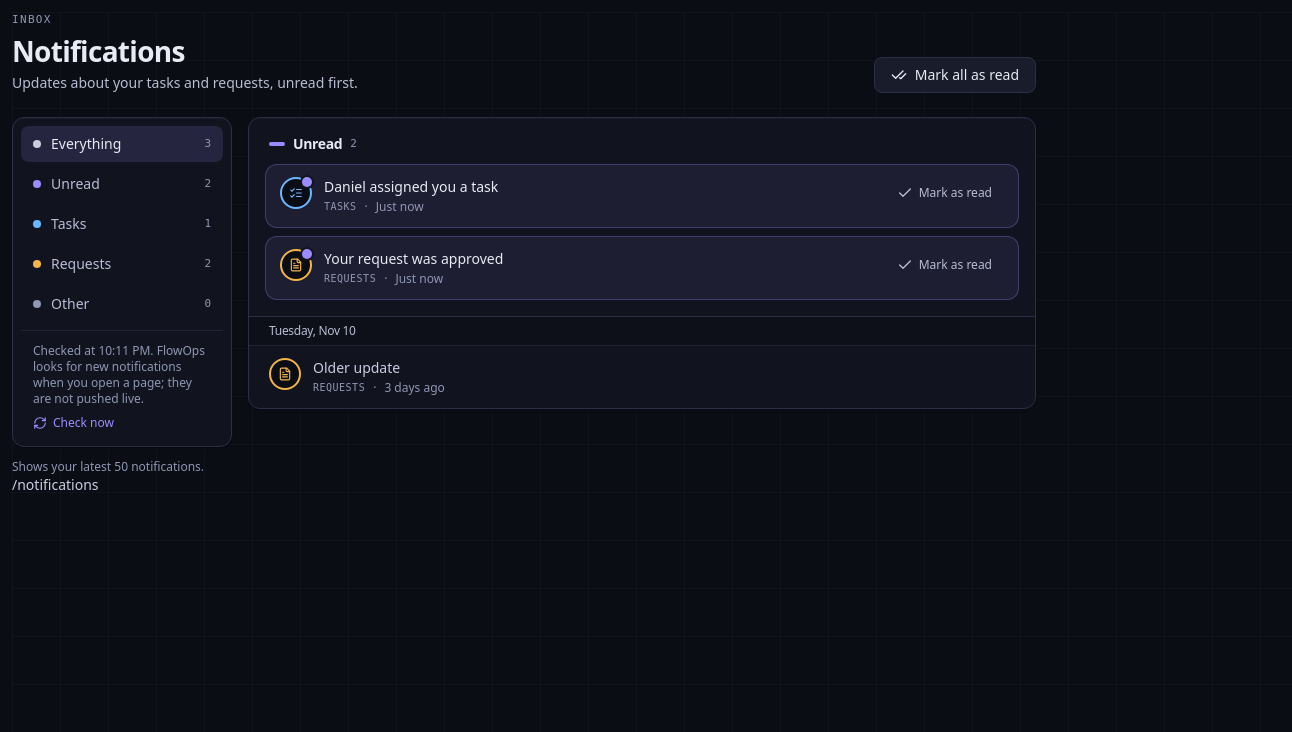
Test: Inbox › puts unread updates in their own lane and says plainly that it is not live
Click the button "Tasks 1". click: click(122, 224)
box: [21,206,223,242]
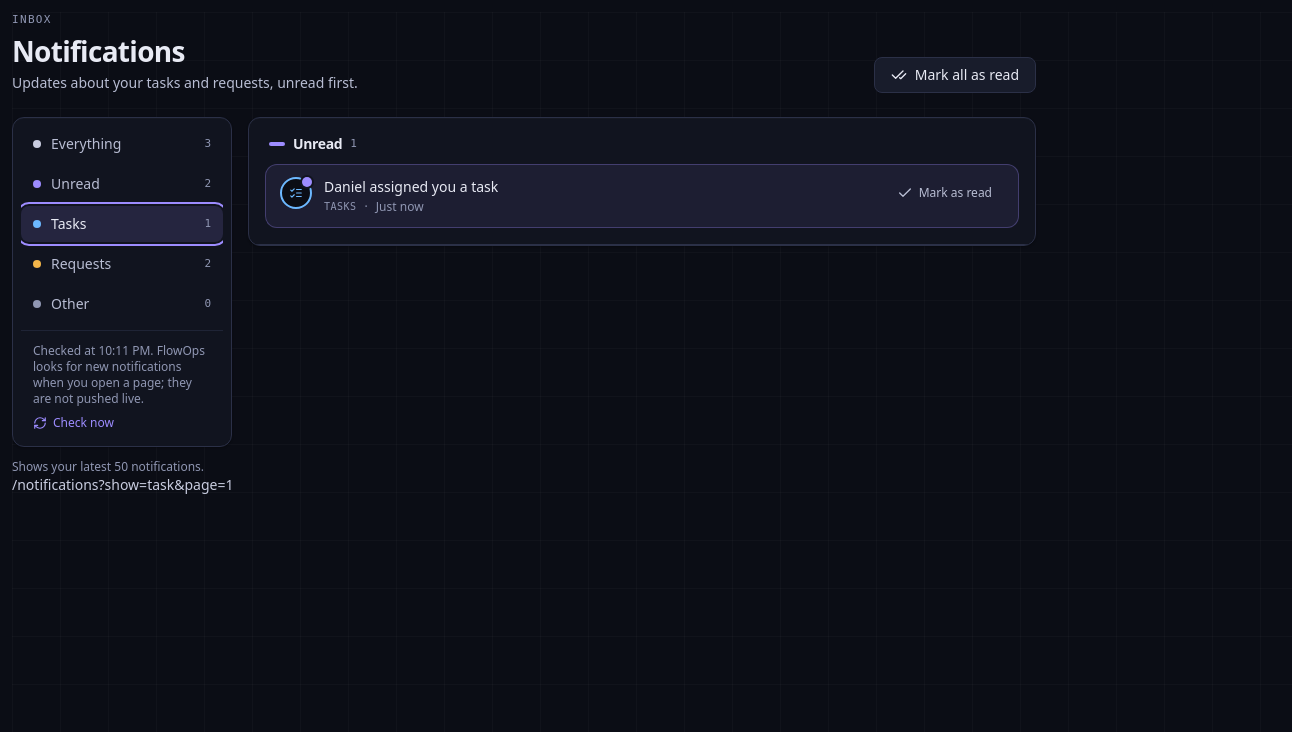
Expected: the link "Daniel assigned you a task" is shown, [324,177,498,196]
Expected: the link "Your request was approved" is gone
